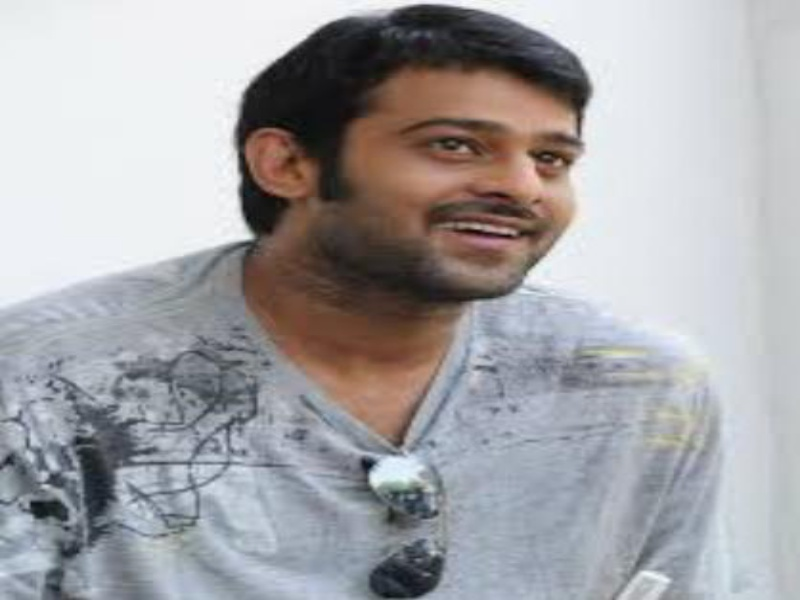TsisyArotava: (239, 15, 604, 306)
